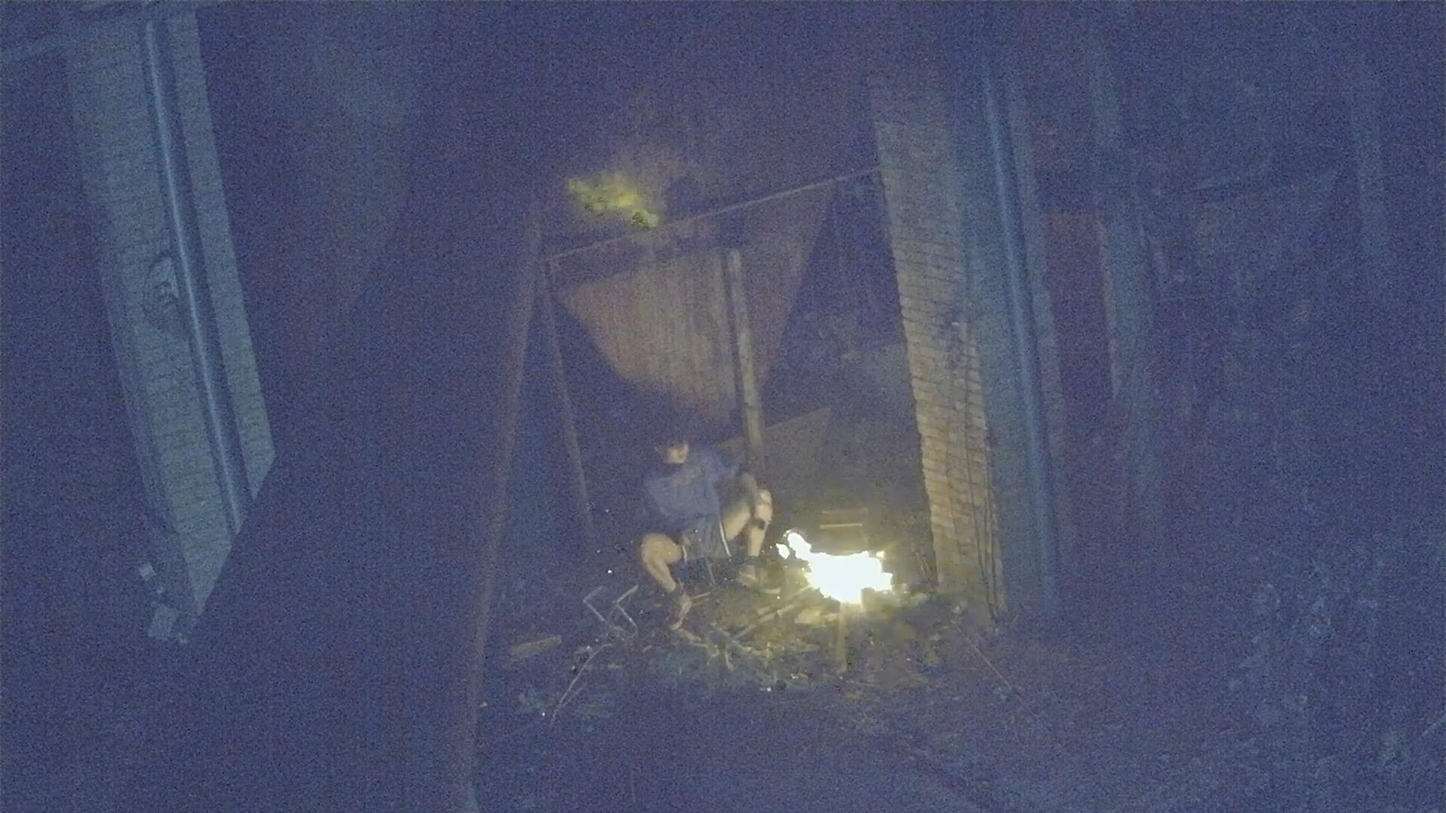fire: (780, 531, 892, 604)
